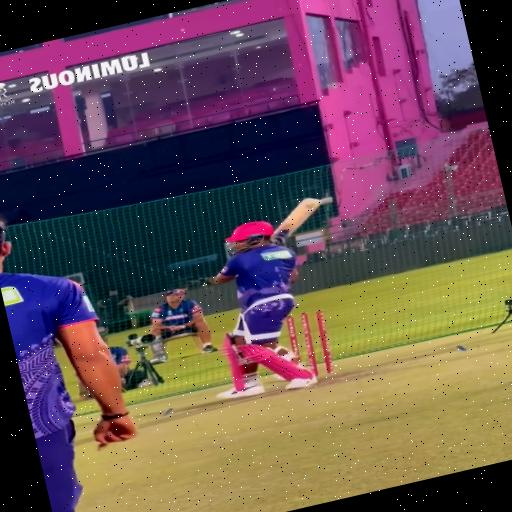Cricket bat: (270, 197, 332, 245)
